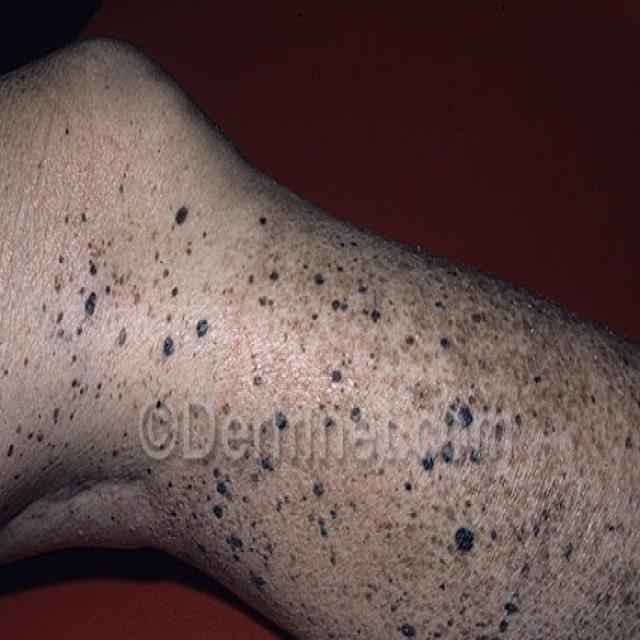Vascular Tumors: (29, 121, 640, 639)
